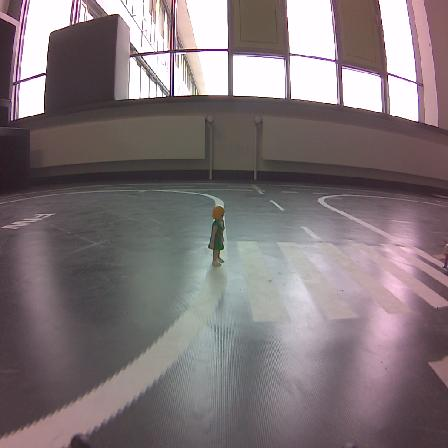CHILD: (443, 243, 447, 268)
PERSON: (208, 206, 224, 266)
